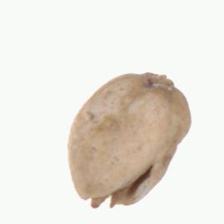L1: (76, 168, 154, 209), (135, 71, 183, 97)
L2: (67, 72, 191, 210)
